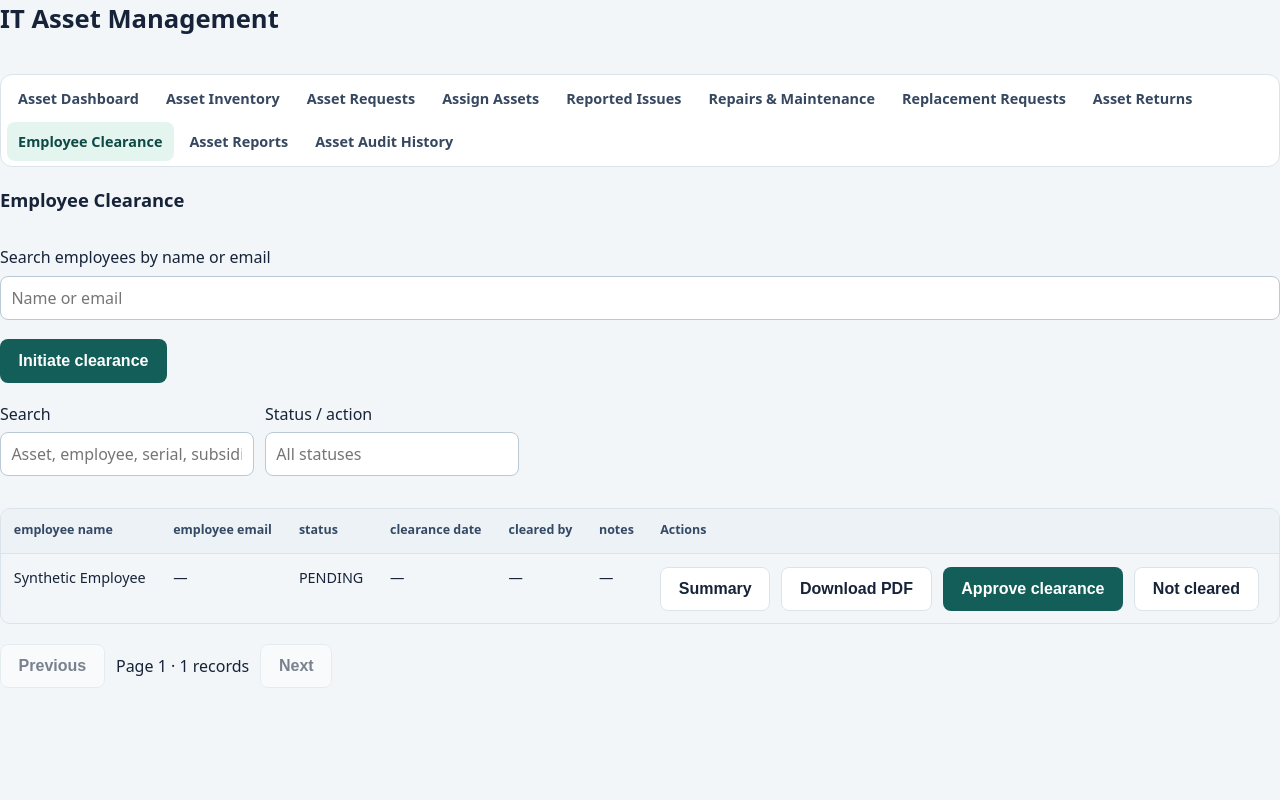
Test case: IT asset workflows › confirms a clearance decision and shows backend failures
Click the button "Approve clearance": point(1033, 589) [943,567,1123,611]
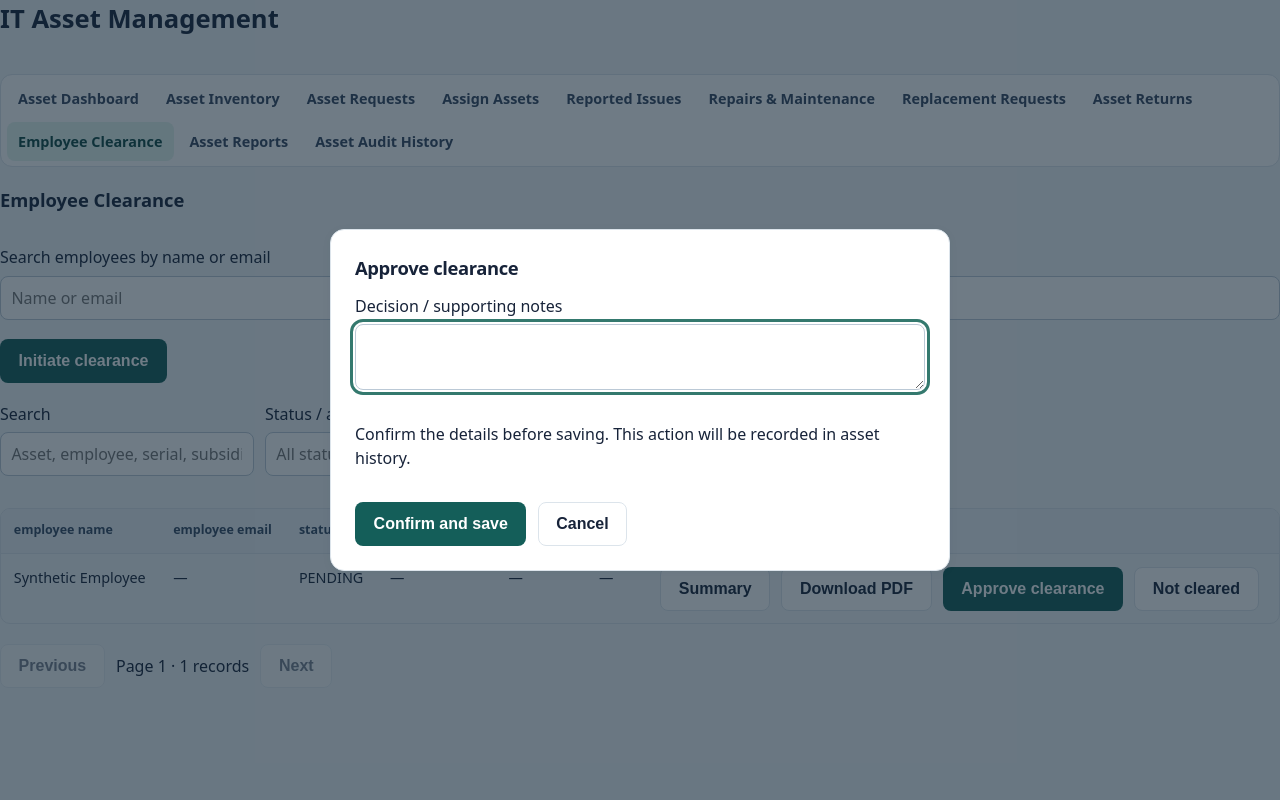
In the text box labelled "Decision / supporting notes": point(640, 357) [355,324,925,390], type "Reviewed obligations"
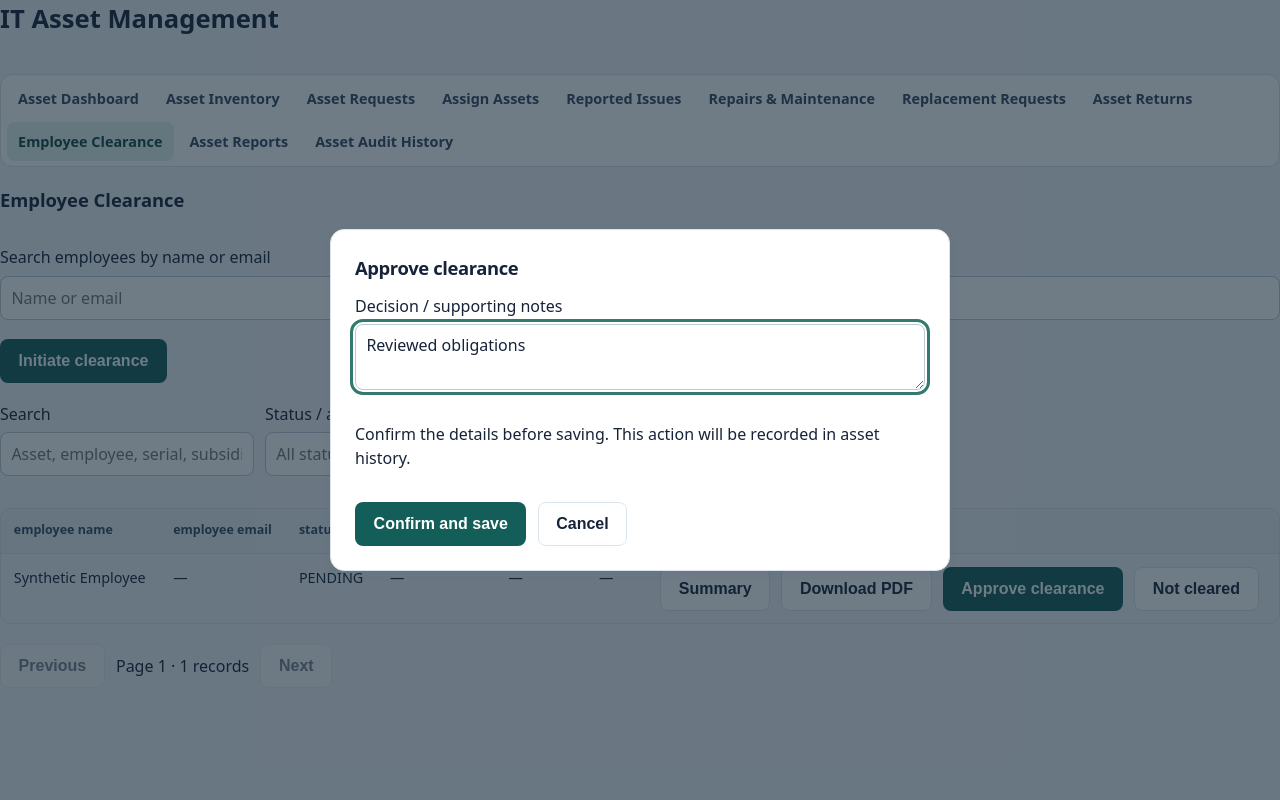
Click the button "Confirm and save": point(441, 524) [355,502,526,546]
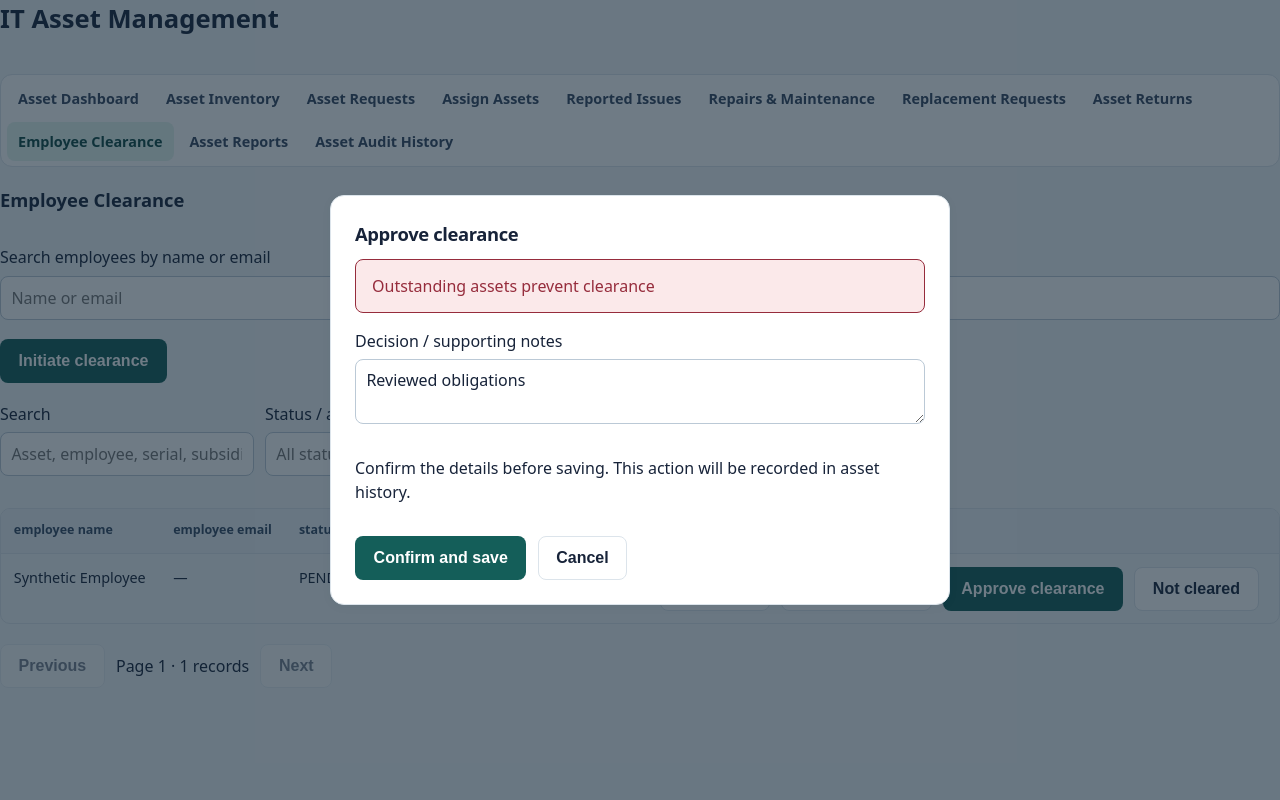
Result: the dialog is shown at [330,195,950,605]
Result: the message reads "Outstanding assets prevent clearance" at [372,275,655,297]
